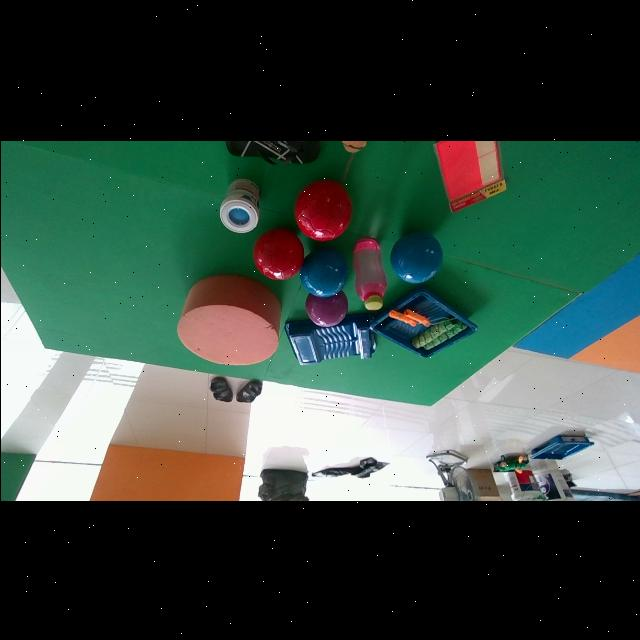B: (391, 232, 442, 282), (298, 248, 347, 296)
P: (305, 290, 347, 326)
R: (293, 179, 352, 240), (253, 227, 304, 279)
